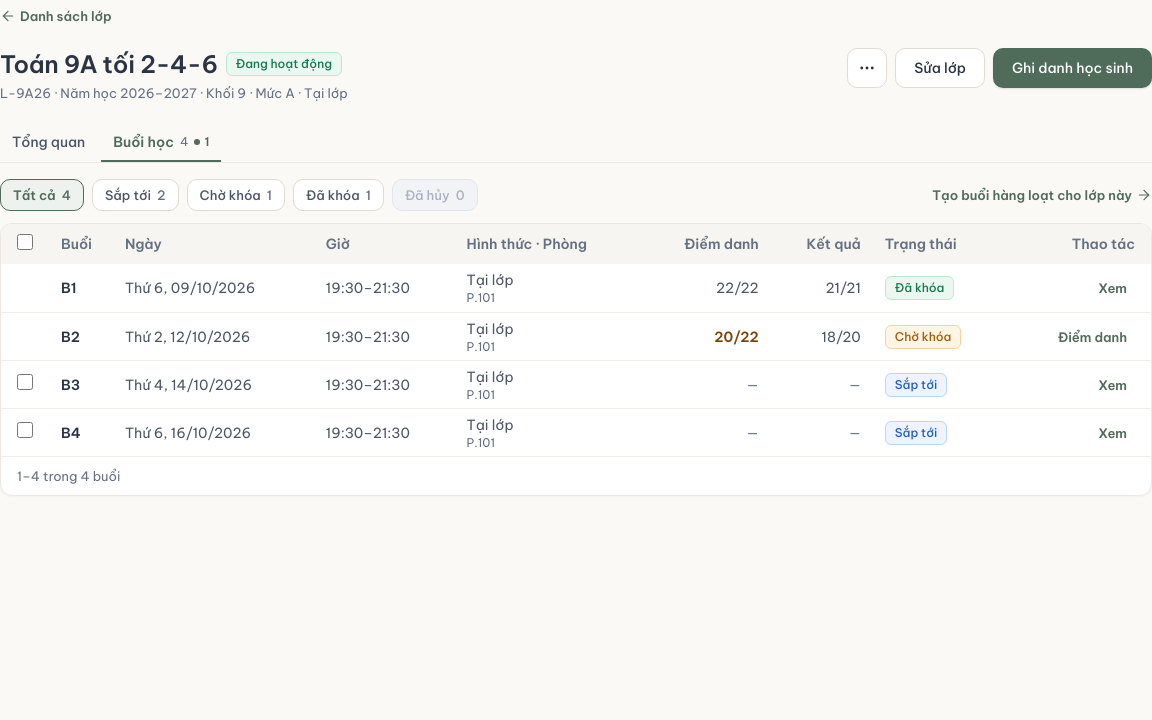
Test: ClassDetailPage sessions tab › offers bulk cancel only for sessions not started and keeps failures selected
This screenshot has width=1152, height=720.
Click the checkbox named "Chọn buổi B3 ". click: point(25, 382)
box: [17,374,33,390]
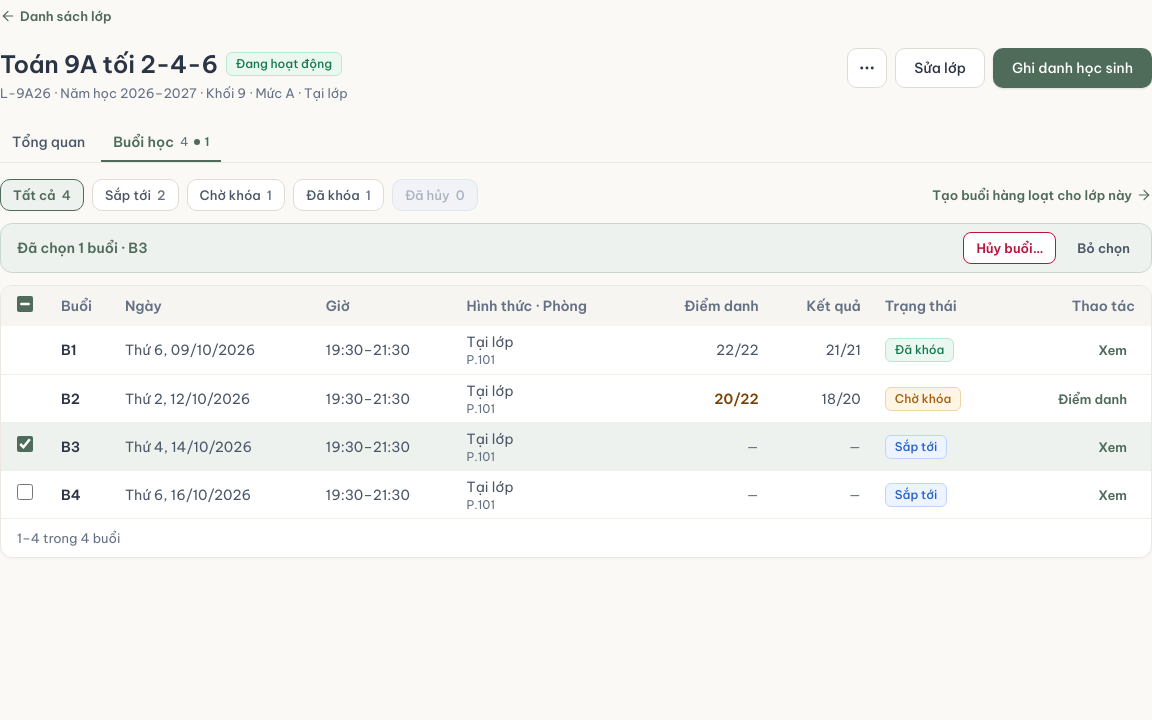
Click the checkbox named "Chọn buổi B4 ". click: point(25, 492)
box: [17,484,33,500]
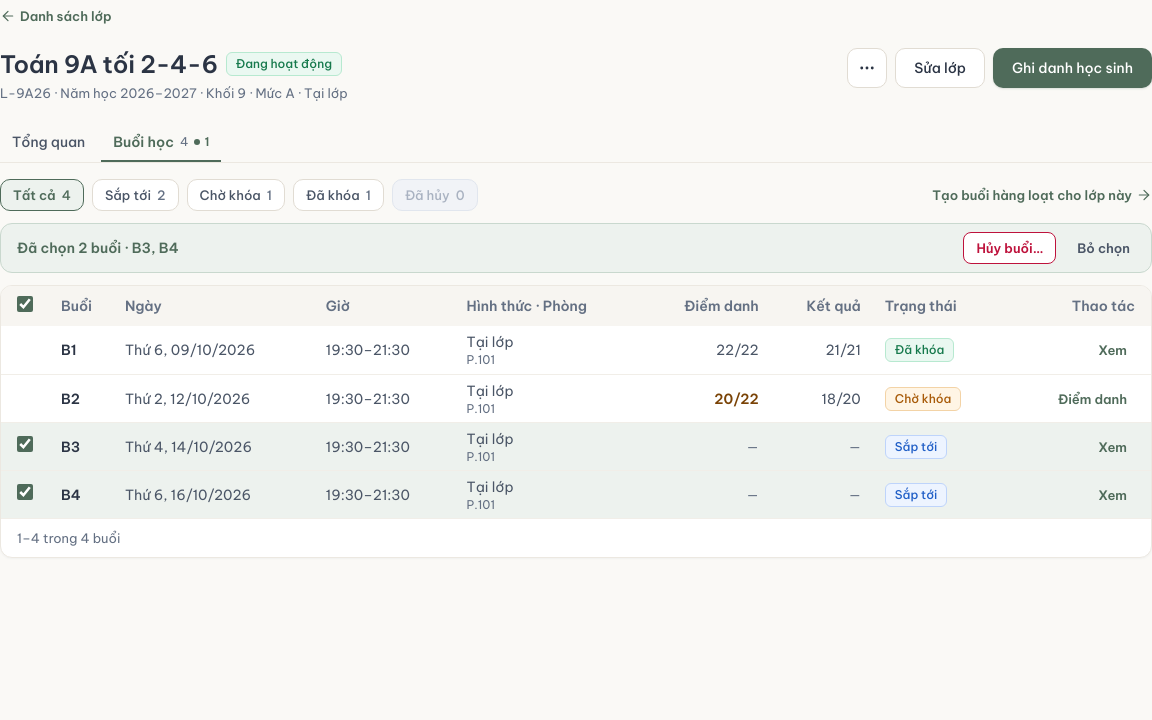
Expected: the element "Đã chọn 2 buổi · B3, B4" is shown, [0,223,1151,273]
Click the button "Hủy buổi…". click: point(1010, 248)
box: [963,232,1056,264]
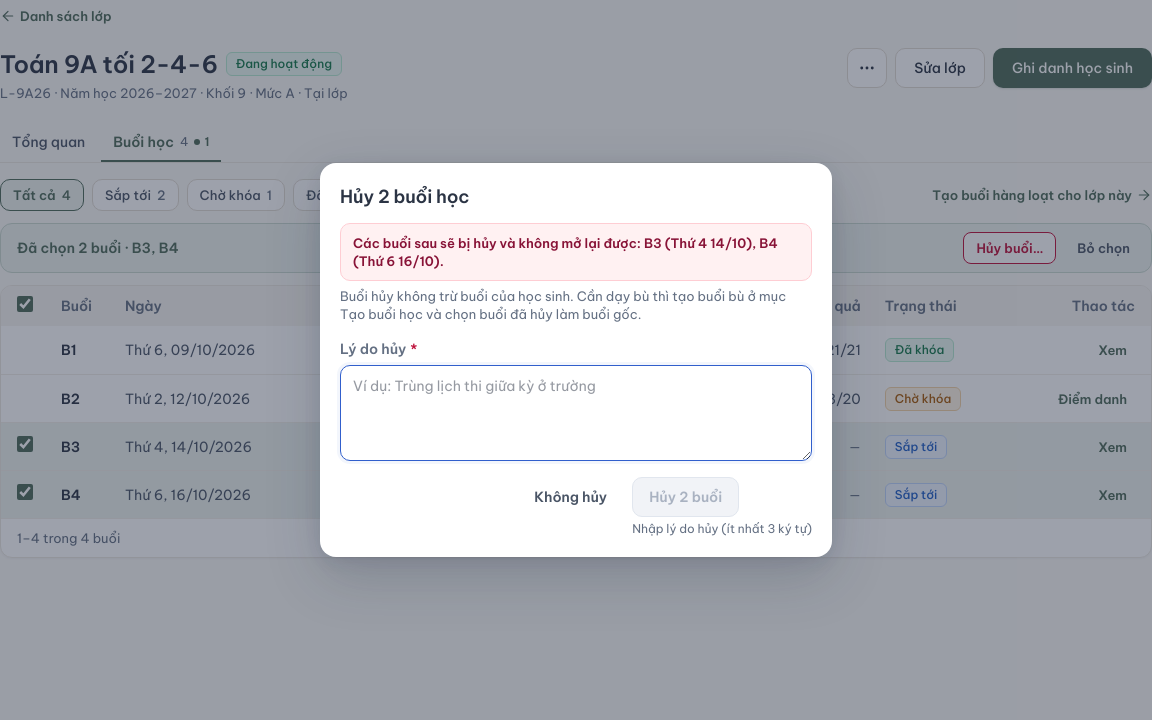
Expected: the button "Hủy 2 buổi" is disabled, [632,477,739,517]
Type "Trùng lịch thi" into the text box. click: point(576, 413)
box: [340,365,812,461]
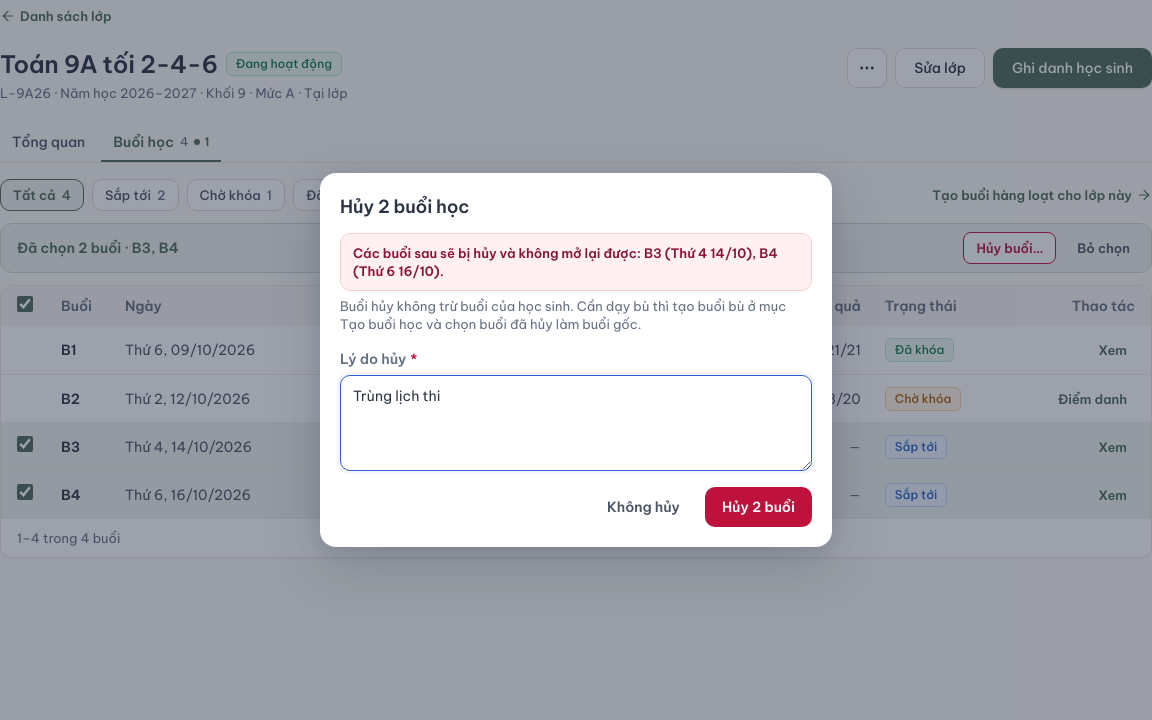
# The enabled button drops the disabled-reason wrapper, so query it again.
Click the button "Hủy 2 buổi". click: point(758, 507)
box: [705,487,812,527]
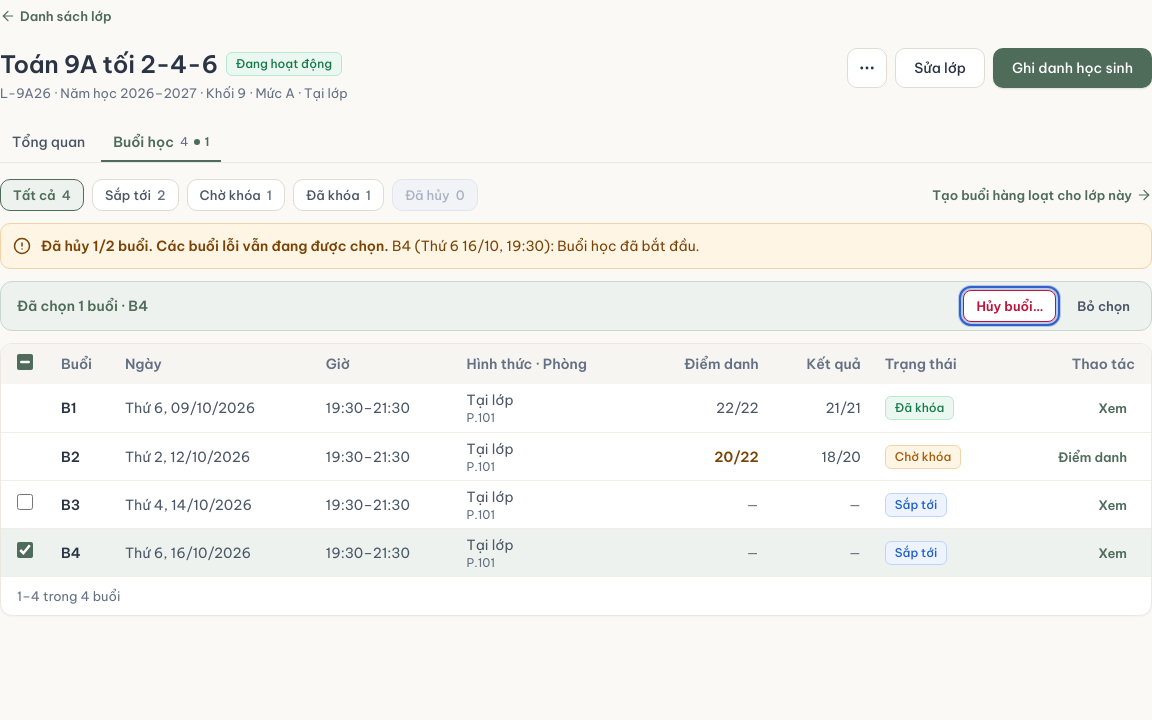
Expected: the text "Đã hủy 1/2 buổi. Các buổi lỗi vẫn đang được chọn." is shown, [41,237,389,255]
Expected: the text "B4 (Thứ 6 16/10, 19:30): Buổi học đã bắt đầu." is shown, [392,237,700,255]
Expected: the element "Đã chọn 1 buổi · B4" is shown, [0,281,1151,331]
